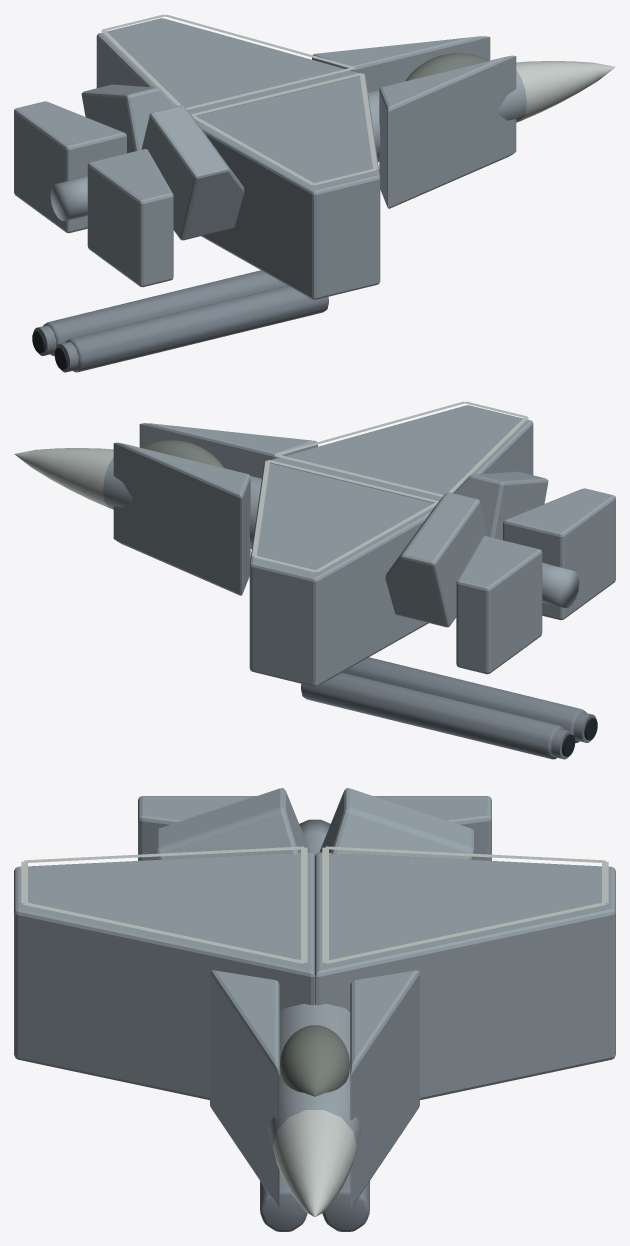
File: usn_uas_scaneagle.glb
The picture shows the model from 3 angles, top to bottom: view 1: azimuth 30°, elevation 25°; view 2: azimuth 150°, elevation 25°; view 3: azimuth 270°, elevation 25°; orthographic projection. The views are drawn at different scales.
Visible parts, largest first — view 1: usn_uas_scaneagle; view 2: usn_uas_scaneagle; view 3: usn_uas_scaneagle.
Boxes of the visible parts, <box> form: usn_uas_scaneagle: <box>14,14,615,372</box>; usn_uas_scaneagle: <box>14,401,615,759</box>; usn_uas_scaneagle: <box>14,788,615,1231</box>.
Bounding box in the file's own units: 10 × 4.05 × 6.67.
